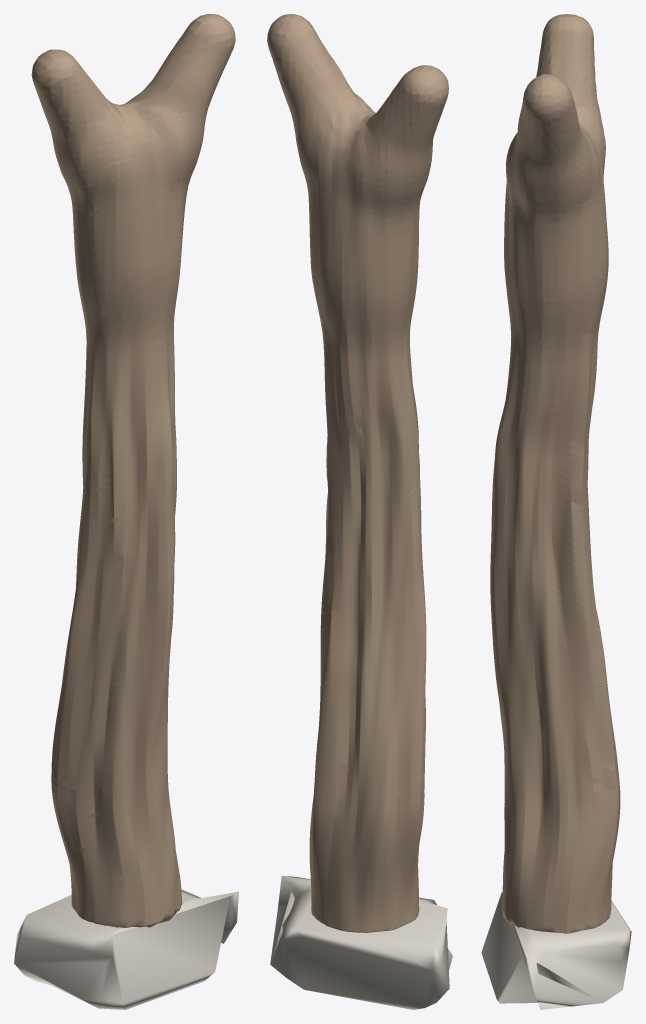
The model's file is bagana-f1-3x11x3-v2.glb.
The picture shows the model from 3 angles, left to right: view 1: azimuth 30°, elevation 25°; view 2: azimuth 150°, elevation 25°; view 3: azimuth 270°, elevation 25°; orthographic projection.
Parts seen in each view (by area): view 1: bagana_wood, bagana_stone; view 2: bagana_wood, bagana_stone; view 3: bagana_wood, bagana_stone.
Boxes of the visible parts, x1,y1,x2,y2 form: bagana_wood: [31, 14, 235, 927]; bagana_stone: [14, 889, 238, 1009]; bagana_wood: [267, 14, 448, 932]; bagana_stone: [270, 876, 452, 1009]; bagana_wood: [490, 14, 620, 933]; bagana_stone: [481, 892, 631, 1009].
Bounding box in the file's own units: 0.6597 × 3 × 0.4309.
